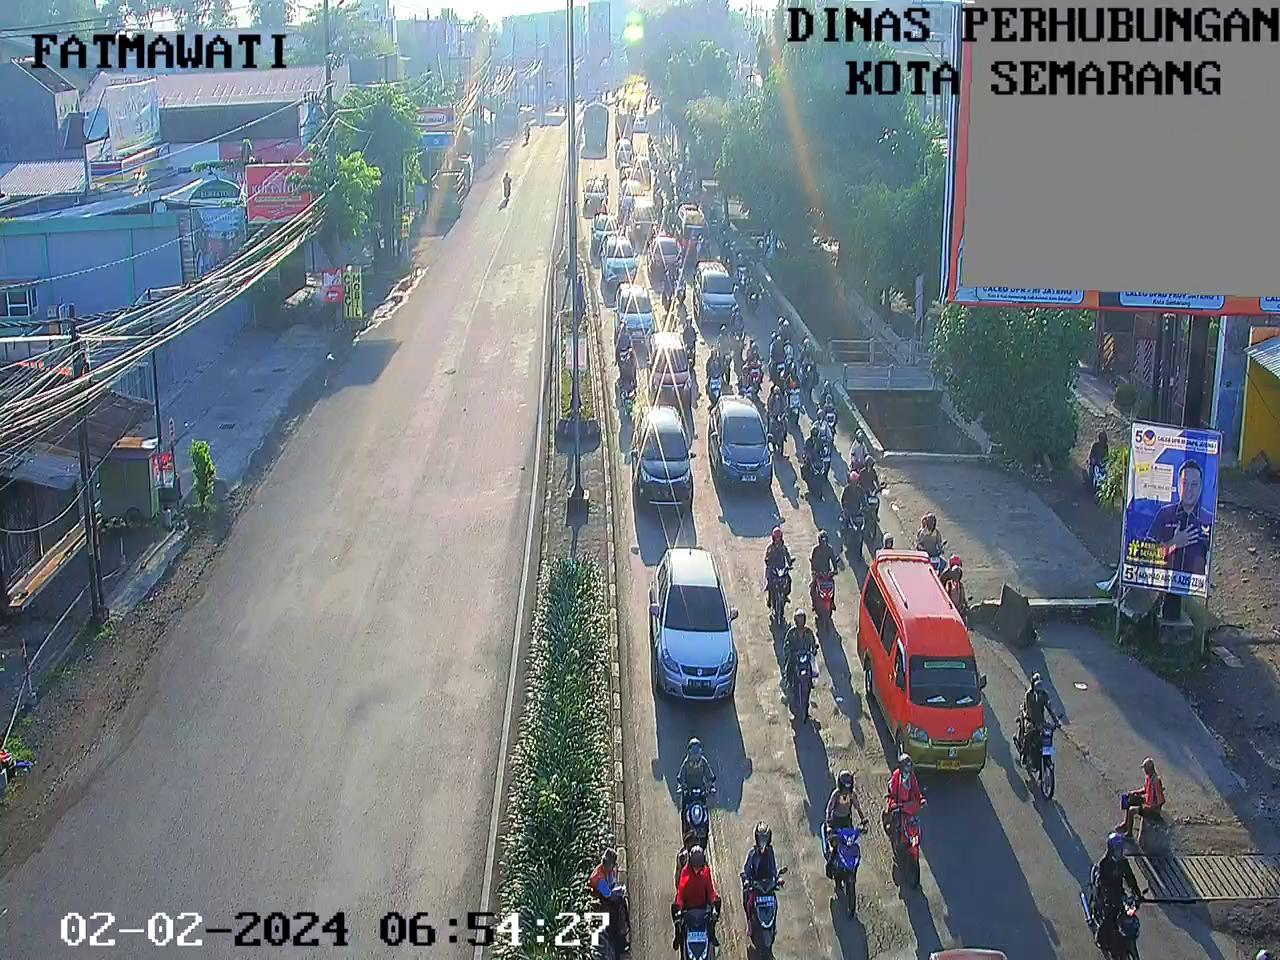car: (861, 541, 995, 788), (643, 534, 742, 702), (634, 391, 706, 511), (707, 391, 765, 478), (693, 255, 747, 331), (642, 328, 695, 394), (616, 279, 659, 346), (601, 230, 641, 281), (647, 228, 685, 278), (676, 199, 707, 254), (577, 166, 612, 210), (590, 212, 626, 252), (627, 194, 655, 232), (615, 137, 640, 164), (616, 159, 641, 185), (621, 181, 644, 203), (633, 110, 647, 132)
motorcycle: (738, 808, 789, 943), (1013, 662, 1061, 796), (670, 839, 723, 960), (814, 761, 858, 902), (1094, 826, 1138, 960), (775, 602, 824, 719), (674, 730, 724, 845), (880, 750, 921, 871), (751, 527, 798, 631), (801, 526, 840, 619), (909, 502, 948, 573), (939, 547, 973, 621), (841, 469, 872, 546), (859, 450, 885, 528), (809, 408, 839, 471), (613, 319, 648, 368), (798, 422, 825, 484), (701, 347, 726, 398), (780, 313, 803, 364), (657, 257, 680, 307), (803, 330, 822, 389), (771, 385, 789, 445), (845, 419, 868, 466), (743, 331, 760, 393), (770, 327, 790, 379), (616, 364, 638, 408), (821, 382, 839, 434), (712, 322, 733, 360), (736, 253, 754, 295), (786, 360, 799, 417), (683, 316, 696, 366), (660, 154, 681, 184), (732, 299, 745, 343), (750, 265, 763, 309), (676, 267, 691, 301), (677, 175, 692, 203), (661, 193, 674, 224), (709, 198, 721, 231), (603, 170, 616, 201), (727, 237, 739, 266), (876, 532, 893, 552), (651, 148, 662, 173), (601, 198, 609, 214), (612, 93, 621, 107)
truck: (581, 97, 612, 152), (615, 104, 639, 153)
